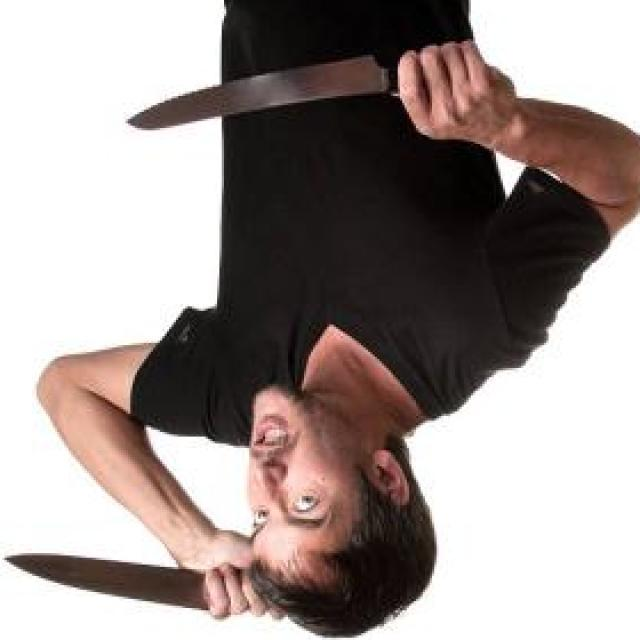knife: (128, 38, 473, 137), (7, 554, 263, 606)
